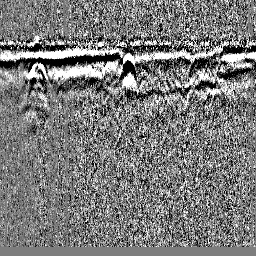cavity: (117, 52, 138, 88)
